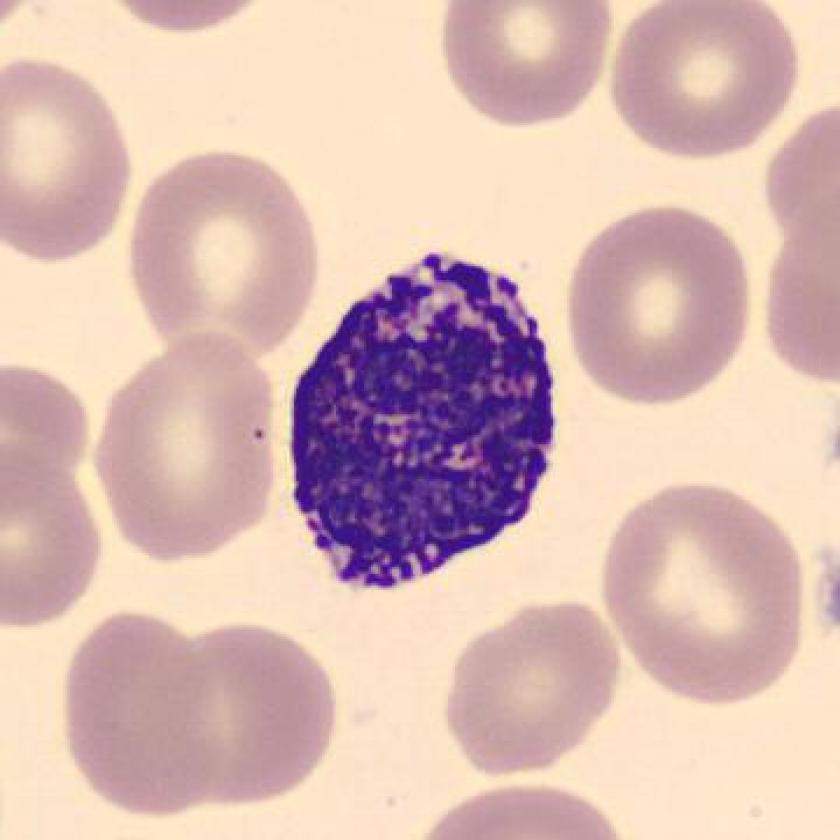basophil: (293, 244, 573, 600)
